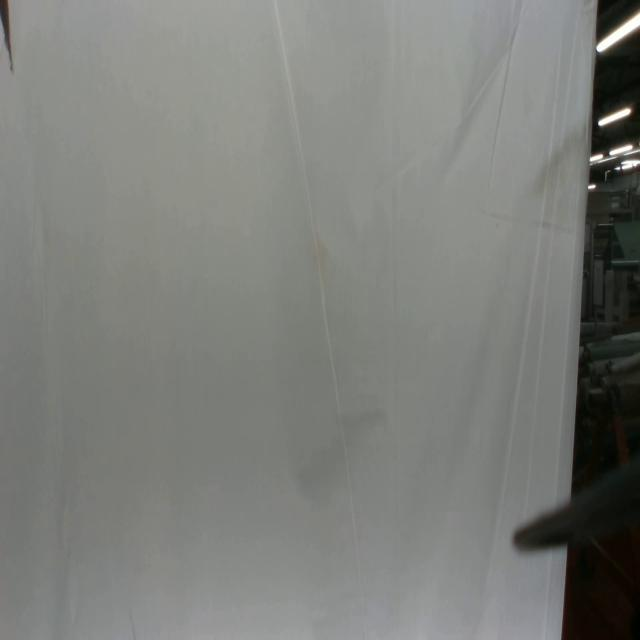crease: (274, 1, 369, 638), (537, 39, 571, 494), (488, 17, 520, 199)
hole: (0, 0, 16, 75)
